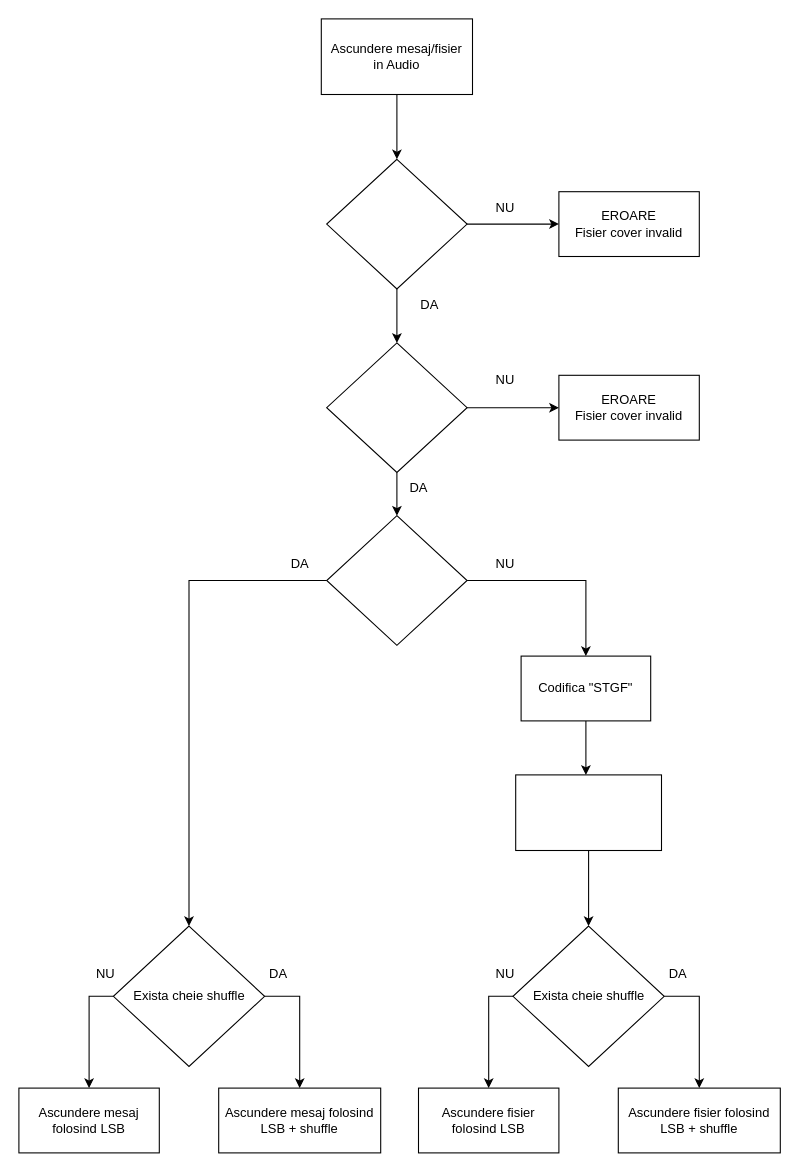
Image size: 799x1172. Some labels were removed from this diagram. Here are the shapes that lost their labels. From the top down, the centre of each, then its label:
point (396, 223): Se gaseste campul "RIFF"
point (396, 407): Se gaseste campul "WAVE"
point (396, 580): Este selectat mod mesaj
point (588, 812): Codifica metoda folosita intr-un byte
